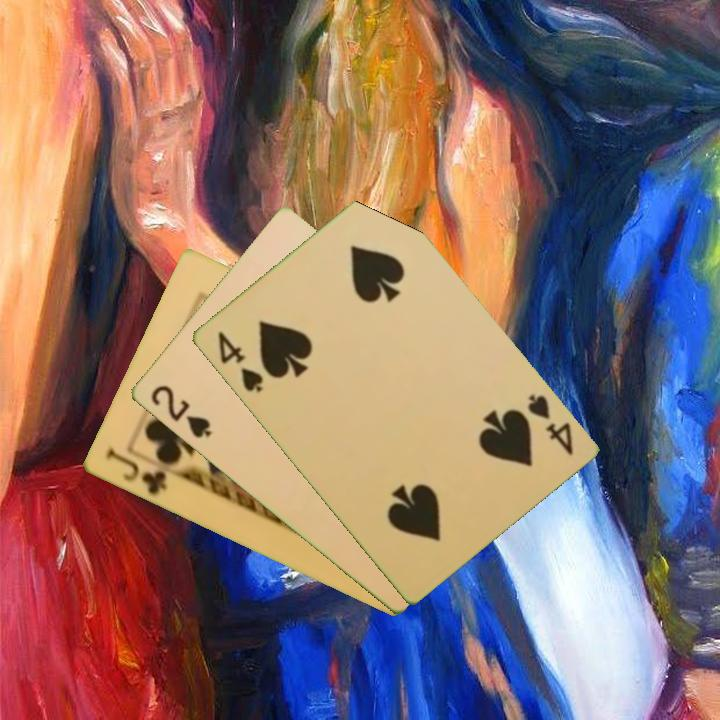2s: (147, 381, 214, 442)
4s: (213, 327, 266, 396), (523, 390, 576, 458)
Jc: (101, 445, 170, 498)
